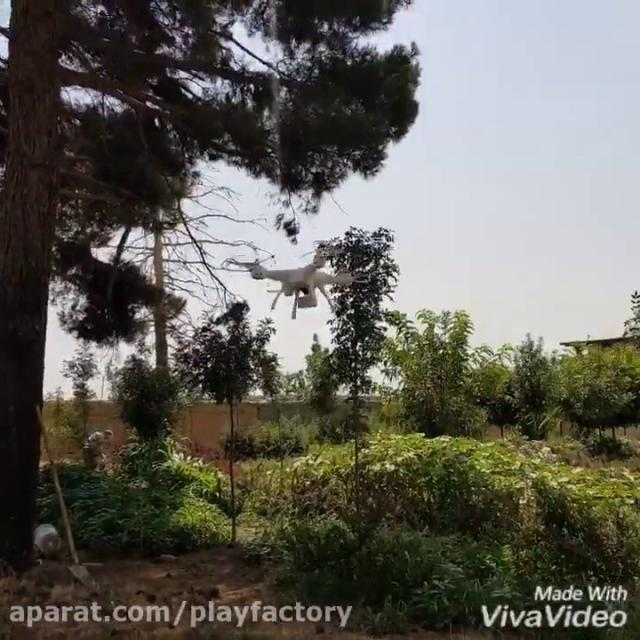drone: (220, 240, 375, 320)
